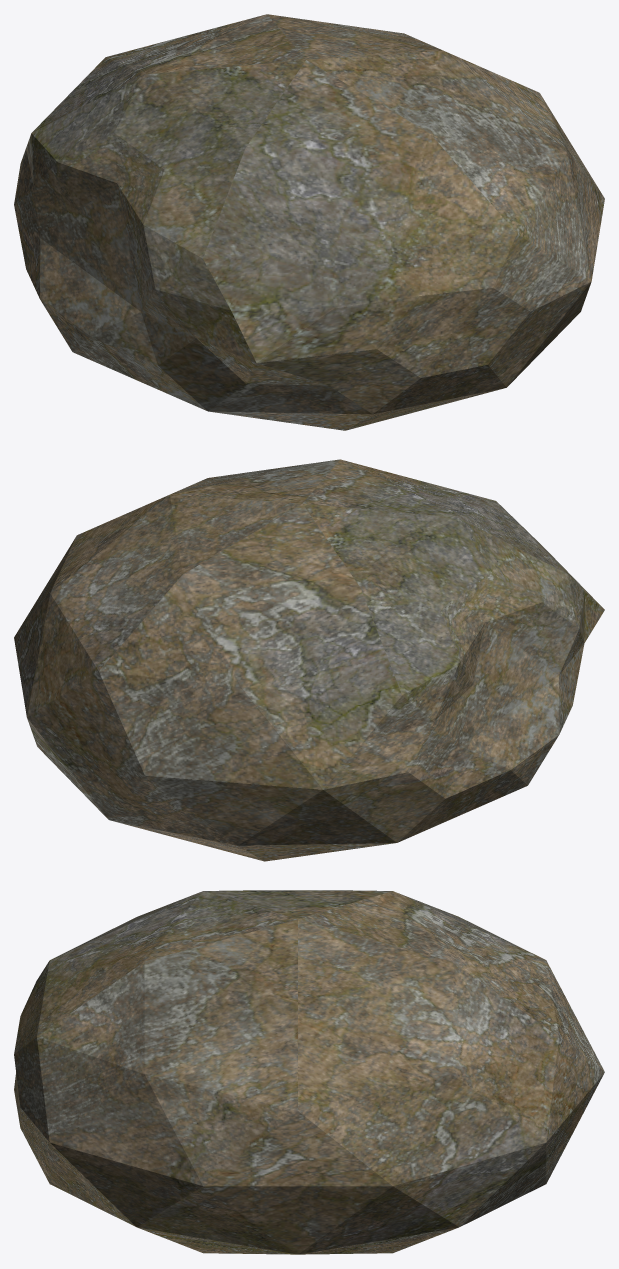
The model's file is rock10.obj.
The picture shows the model from 3 angles, top to bottom: view 1: azimuth 30°, elevation 25°; view 2: azimuth 150°, elevation 25°; view 3: azimuth 270°, elevation 25°; orthographic projection. The views are drawn at different scales.
Visible parts, largest first — view 1: ICO球.005; view 2: ICO球.005; view 3: ICO球.005.
Part boxes in pixels (left/top/right/bottom): ICO球.005: left=14, top=14, right=604, bottom=430; ICO球.005: left=14, top=459, right=604, bottom=861; ICO球.005: left=14, top=890, right=604, bottom=1254.
Size of the model in its own units: 122 by 77.14 by 135.
